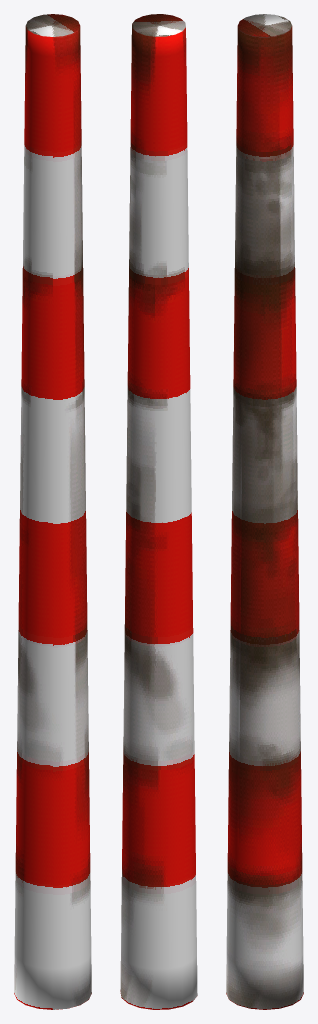
File: chimney1.glb
The picture shows the model from 3 angles, left to right: view 1: azimuth 90°, elevation 25°; view 2: azimuth 150°, elevation 25°; view 3: azimuth 270°, elevation 25°; orthographic projection.
Visible parts, largest first — view 1: Cylinder; view 2: Cylinder; view 3: Cylinder.
Boxes of the visible parts, <box> form: Cylinder: <box>14,14,91,1009</box>; Cylinder: <box>120,14,197,1009</box>; Cylinder: <box>226,14,303,1009</box>.
Bounding box in the file's own units: 2 × 27.49 × 2.
Materials: 1 (1 with a texture image).
